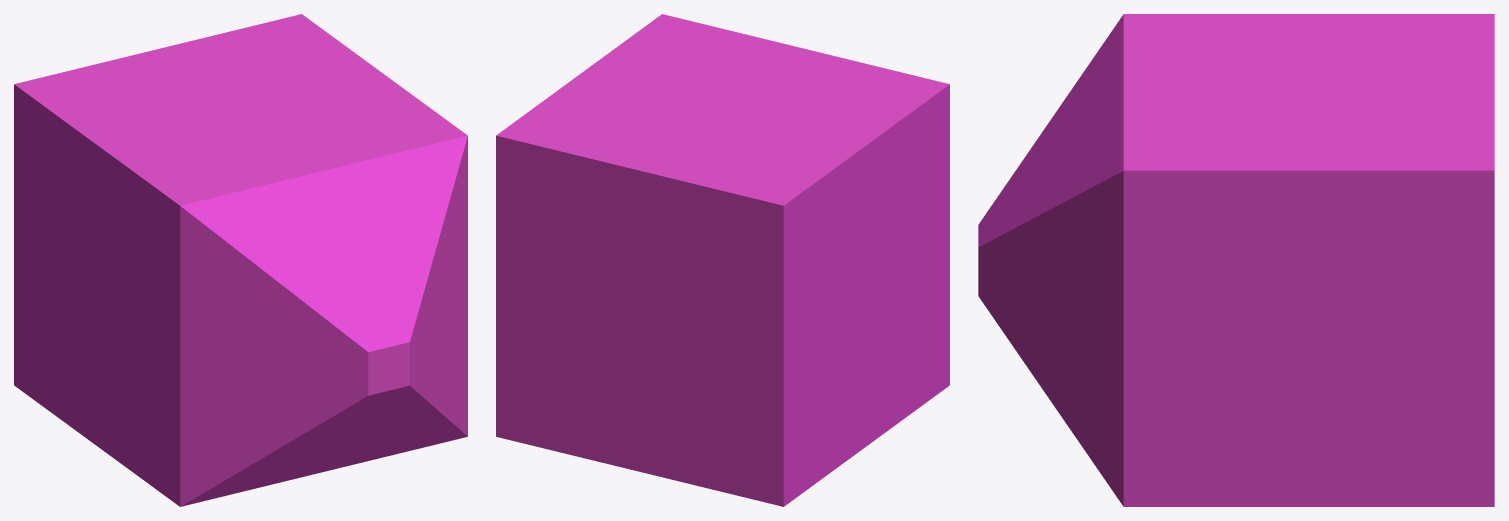
The picture shows the model from 3 angles, left to right: view 1: azimuth 30°, elevation 25°; view 2: azimuth 150°, elevation 25°; view 3: azimuth 270°, elevation 25°; orthographic projection. The views are drawn at different scales.
Parts seen in each view (by area): view 1: Cube; view 2: Cube; view 3: Cube.
Boxes of the visible parts, box(x1,y1,x2,y2) form: Cube: box(14, 14, 467, 506); Cube: box(496, 14, 949, 506); Cube: box(978, 14, 1494, 506).
Size of the model in its own units: 0.2 by 0.2 by 0.2784.
